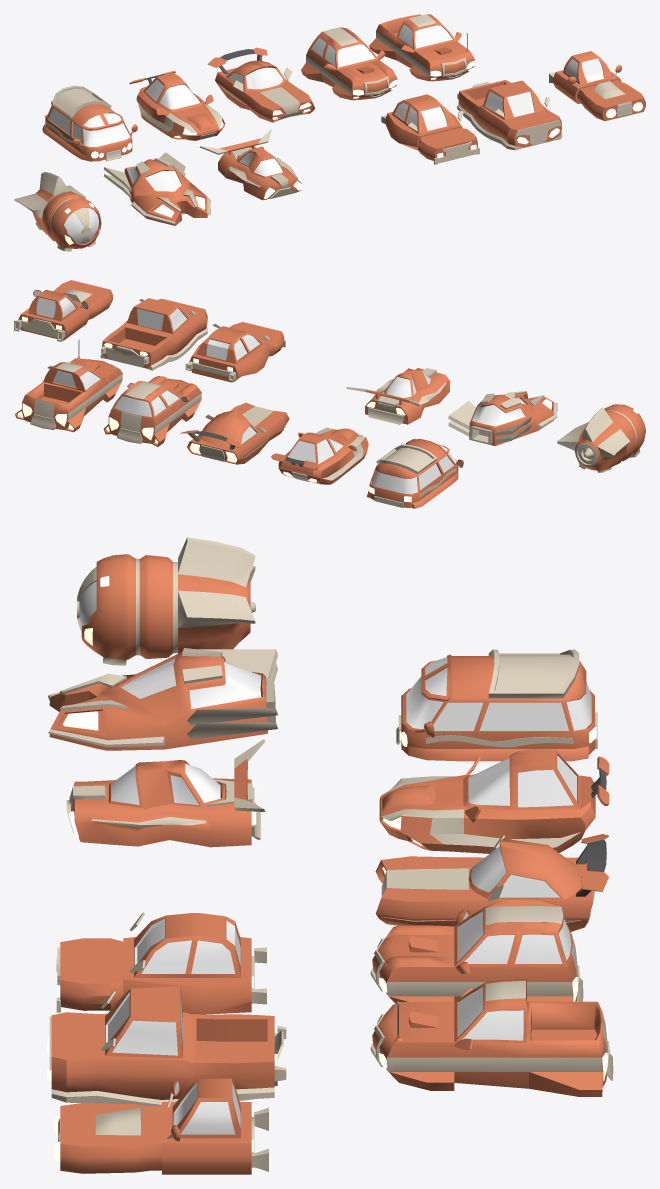
The model's file is HoverCar.glb.
The picture shows the model from 3 angles, top to bottom: view 1: azimuth 30°, elevation 25°; view 2: azimuth 150°, elevation 25°; view 3: azimuth 270°, elevation 25°; orthographic projection. The views are drawn at different scales.
Visible parts, largest first — view 1: HoverCar 3, HoverCar 11, HoverCar 10, HoverCar 9, HoverCar 5, HoverCar 7, HoverCar 2, HoverCar 8, HoverCar 6, HoverCar 1, HoverCar 4; view 2: HoverCar 3, HoverCar 10, HoverCar 11, HoverCar 9, HoverCar 5, HoverCar 7, HoverCar 2, HoverCar 6, HoverCar 1, HoverCar 8, HoverCar 4; view 3: HoverCar 10, HoverCar 3, HoverCar 11, HoverCar 5, HoverCar 6, HoverCar 8, HoverCar 9, HoverCar 1, HoverCar 2, HoverCar 7, HoverCar 4.
Boxes of the visible parts, x1,y1,x2,y2 form: HoverCar 3: (457,80,562,150); HoverCar 11: (42,85,137,161); HoverCar 10: (369,14,474,81); HoverCar 9: (301,27,397,100); HoverCar 5: (103,152,210,225); HoverCar 7: (207,47,315,122); HoverCar 2: (381,94,479,164); HoverCar 8: (129,71,225,140); HoverCar 6: (14,172,101,251); HoverCar 1: (549,51,645,121); HoverCar 4: (199,129,301,200); HoverCar 3: (100,298,207,370); HoverCar 10: (15,339,122,432); HoverCar 11: (367,439,463,508); HoverCar 9: (103,376,201,446); HoverCar 5: (448,391,557,445); HoverCar 7: (180,402,289,464); HoverCar 2: (185,322,285,382); HoverCar 6: (557,404,645,472); HoverCar 1: (14,280,112,341); HoverCar 8: (271,427,368,484); HoverCar 4: (346,368,450,424); HoverCar 10: (370,979,613,1096); HoverCar 3: (46,986,286,1105); HoverCar 11: (396,649,597,761); HoverCar 5: (48,648,277,750); HoverCar 6: (77,537,255,665); HoverCar 8: (379,749,609,853); HoverCar 9: (370,900,583,1003); HoverCar 1: (54,1078,268,1174); HoverCar 2: (56,912,266,1014); HoverCar 7: (375,834,608,931); HoverCar 4: (66,739,264,847).
Bounding box in the file's own units: 91.2 × 8.64 × 38.
